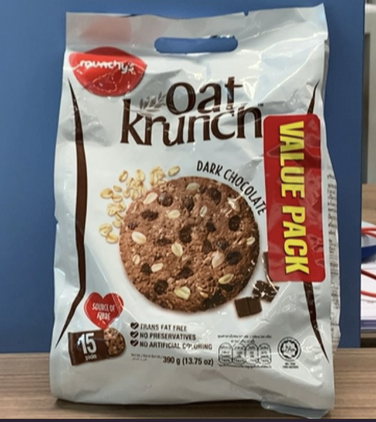cookies_300g-399g: (71, 62, 318, 378)
